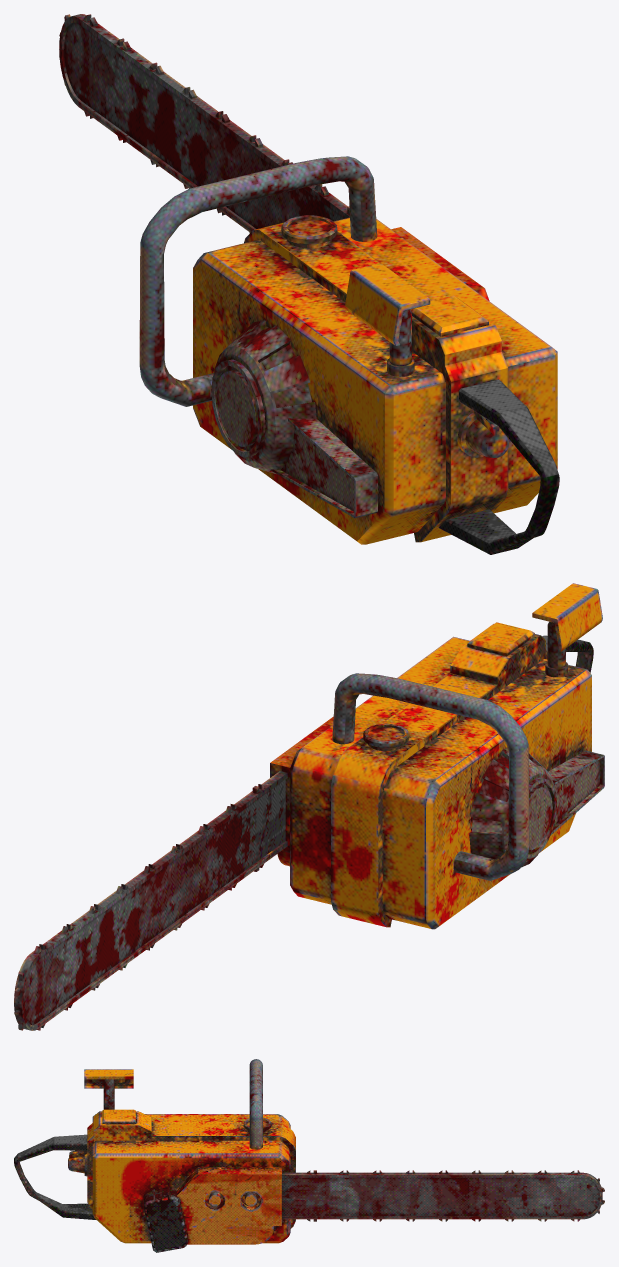
The model's file is ChainSaw_PSX_FBX.fbx.
The picture shows the model from 3 angles, top to bottom: view 1: azimuth 30°, elevation 25°; view 2: azimuth 150°, elevation 25°; view 3: azimuth 270°, elevation 25°; orthographic projection. The views are drawn at different scales.
Visible parts, largest first — view 1: pCube24; view 2: pCube24; view 3: pCube24.
Boxes of the visible parts, <box> form: pCube24: <box>59,14,559,554</box>; pCube24: <box>14,583,604,1030</box>; pCube24: <box>14,1059,604,1252</box>.
Bounding box in the file's own units: 32.07 × 28.97 × 112.
Materials: 1 (1 with a texture image).
